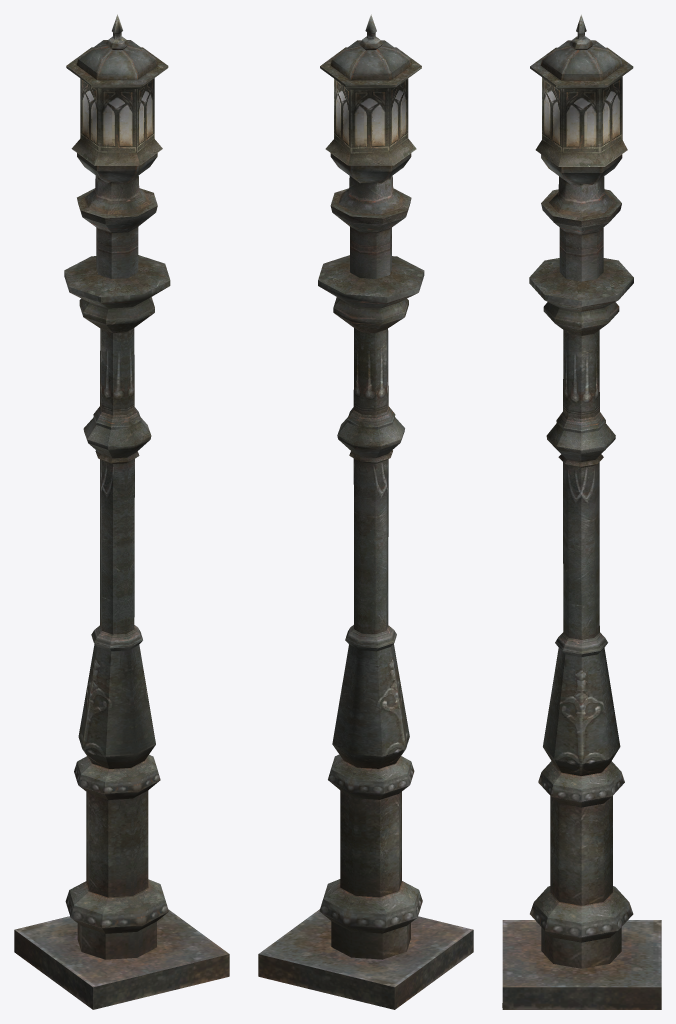
File: bg_lut_lucastle_streetlight02_sm_artree.FBX
3 views of the same model, side by side, from view 1: azimuth 30°, elevation 25°; view 2: azimuth 150°, elevation 25°; view 3: azimuth 270°, elevation 25° (orthographic).
Parts seen in each view (by area): view 1: bg_lut_lucastle_streetlight02_sm_artree; view 2: bg_lut_lucastle_streetlight02_sm_artree; view 3: bg_lut_lucastle_streetlight02_sm_artree.
Boxes of the visible parts, x1,y1,x2,y2 form: bg_lut_lucastle_streetlight02_sm_artree: (14, 14, 229, 1009); bg_lut_lucastle_streetlight02_sm_artree: (258, 14, 473, 1009); bg_lut_lucastle_streetlight02_sm_artree: (502, 14, 661, 1009).
Size of the model in its own units: 51.6 by 344 by 51.61.
